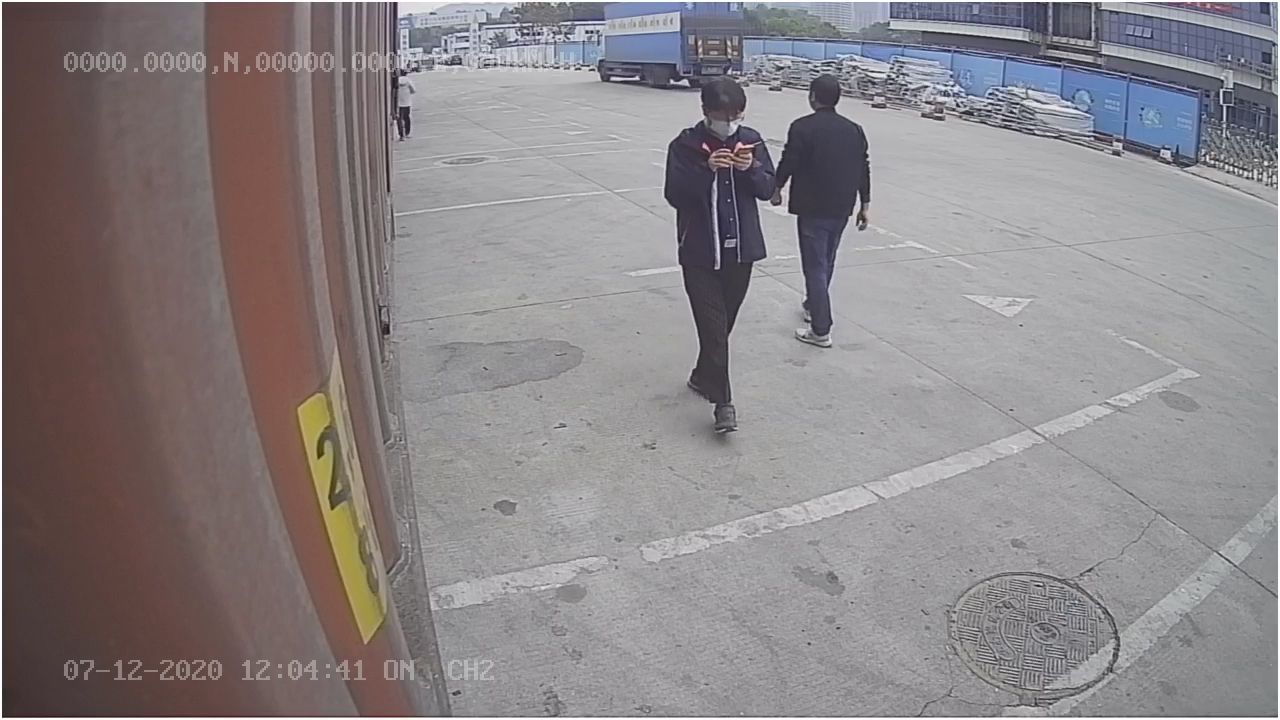person: (769, 68, 875, 354)
